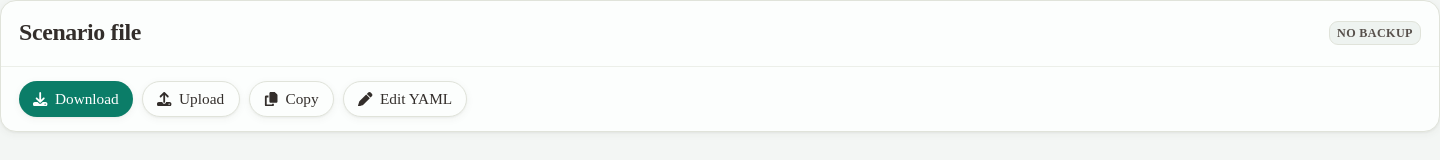
Test case: ScenarioFileCard — Copy clipboard failure (FR-SL-09) › a resolved writeText shows "Copied!" and reverts after the label window
Click the button with test id "scenario-copy-button".
click(291, 99)  # box [248,81,334,117]
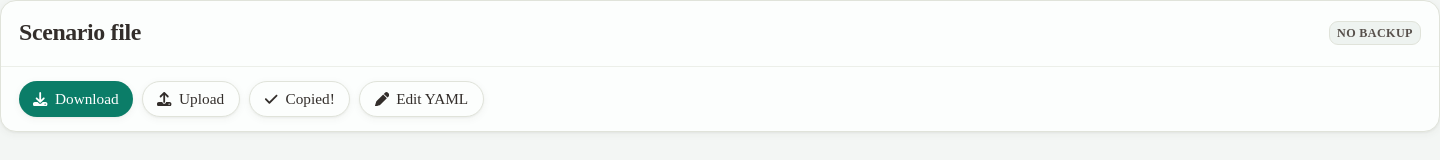
Expected: the button with test id "scenario-copy-button" reads "Copied!", [248,81,350,117]
